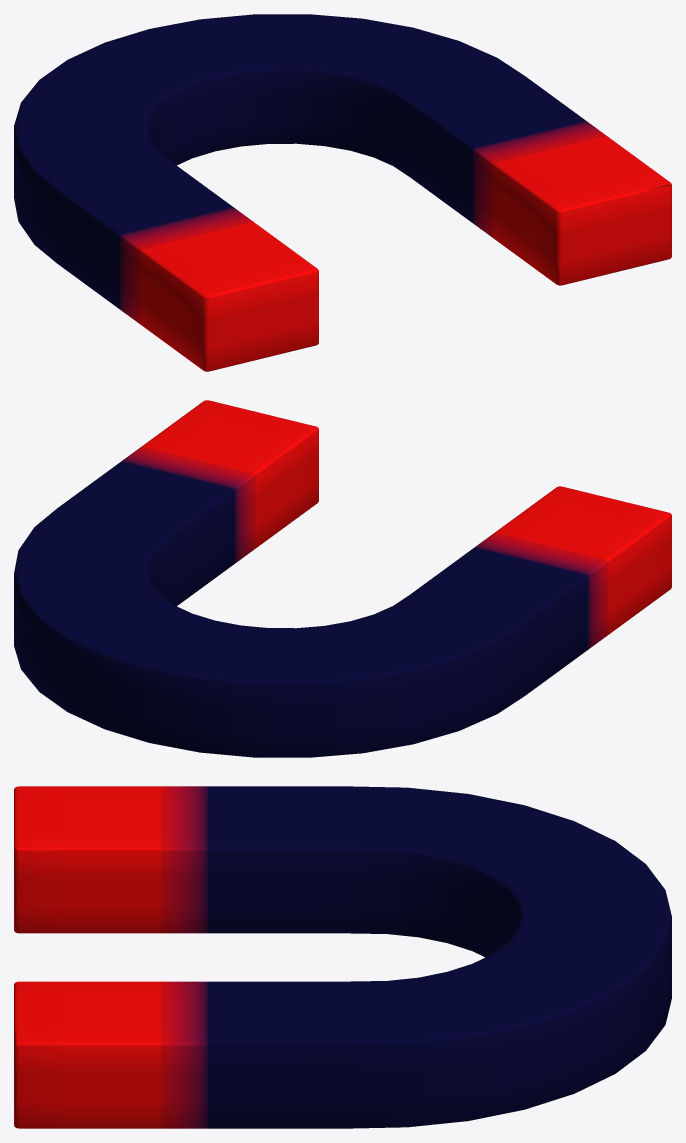
Rendered from Magnet.fbx.
The picture shows the model from 3 angles, top to bottom: view 1: azimuth 30°, elevation 25°; view 2: azimuth 150°, elevation 25°; view 3: azimuth 270°, elevation 25°; orthographic projection. The views are drawn at different scales.
Parts seen in each view (by area): view 1: Magnet; view 2: Magnet; view 3: Magnet.
Boxes of the visible parts, x1=… form: Magnet: x1=14, y1=14, x2=671, y2=371; Magnet: x1=14, y1=400, x2=671, y2=757; Magnet: x1=14, y1=786, x2=671, y2=1128.
Size of the model in its own units: 214 by 33.31 by 230.
